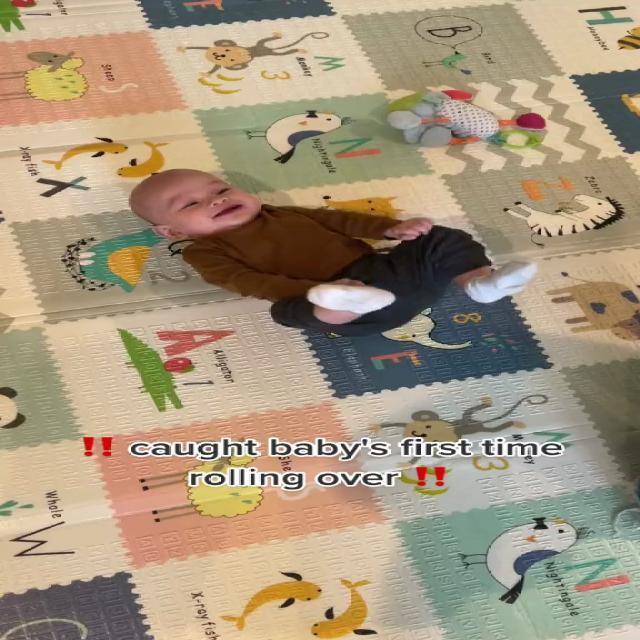baby: (124, 168, 543, 344)
